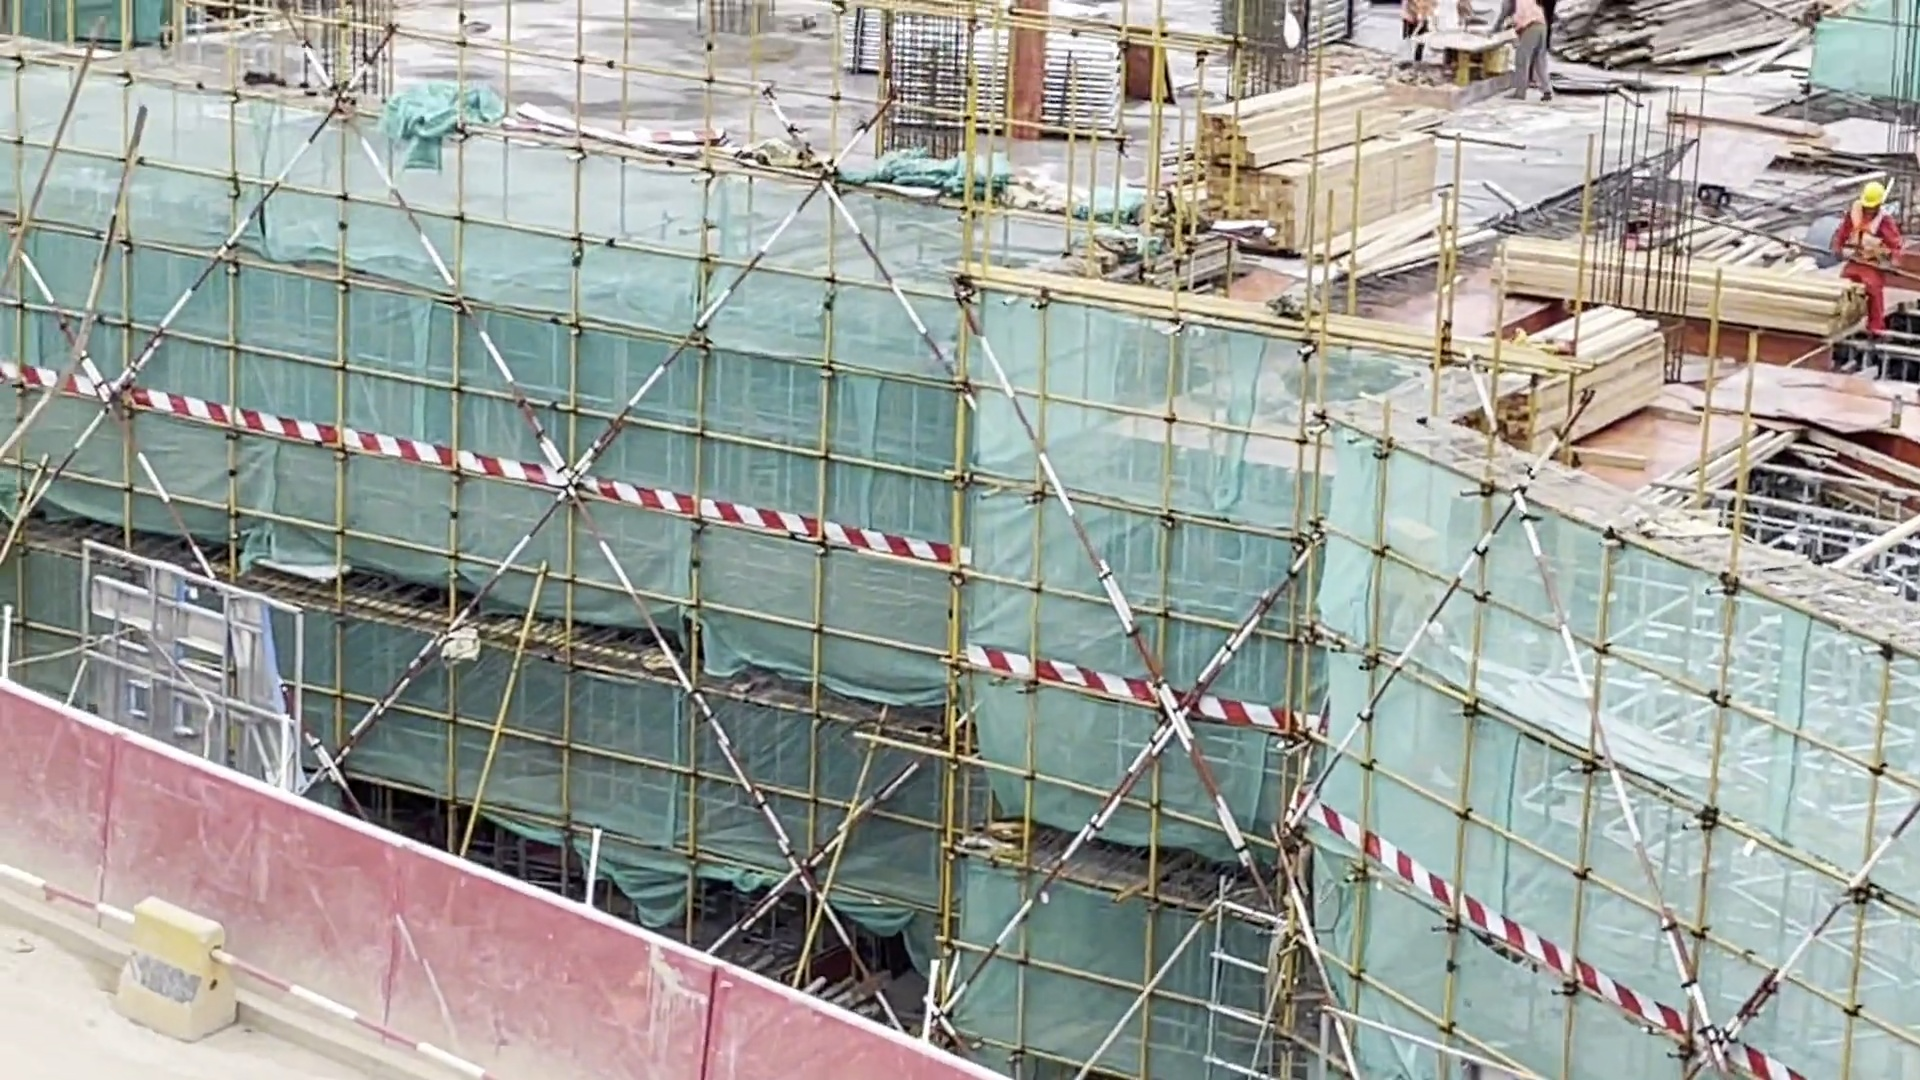fence: (1, 688, 1025, 1080)
helmet: (1860, 165, 1901, 215)
person: (1831, 177, 1896, 362), (1485, 1, 1566, 92)
scaffold: (835, 3, 1135, 146)
vest: (1838, 215, 1896, 317), (1477, 1, 1541, 20)
wood: (1192, 85, 1438, 248), (1492, 227, 1867, 330), (1524, 302, 1665, 433)
